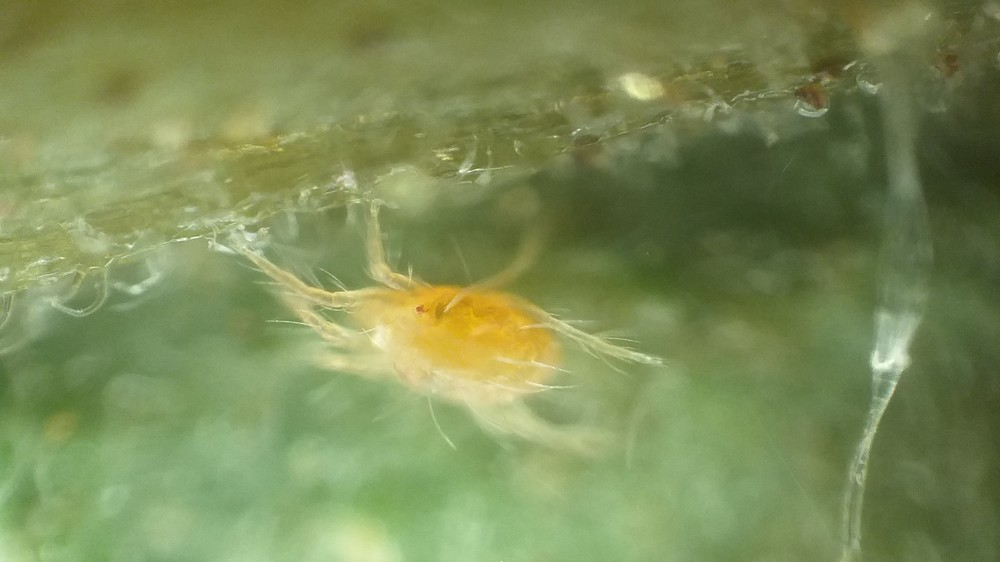Aracnido Rojo: (219, 195, 695, 482)
